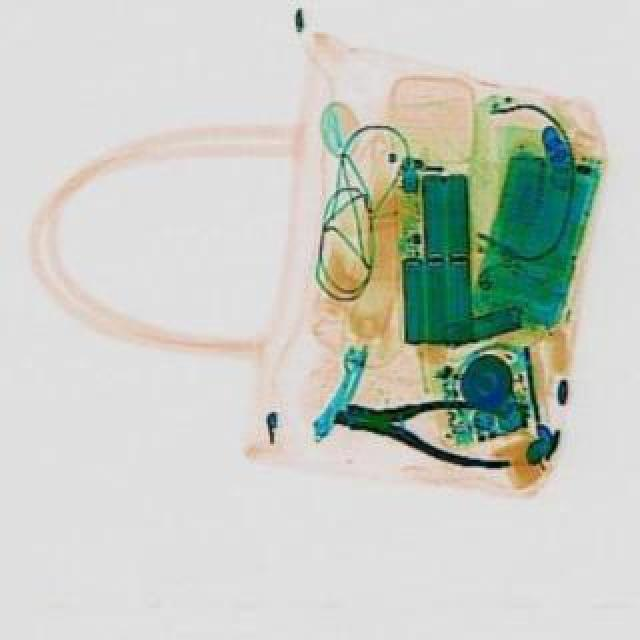wrench: (326, 372, 522, 472)
